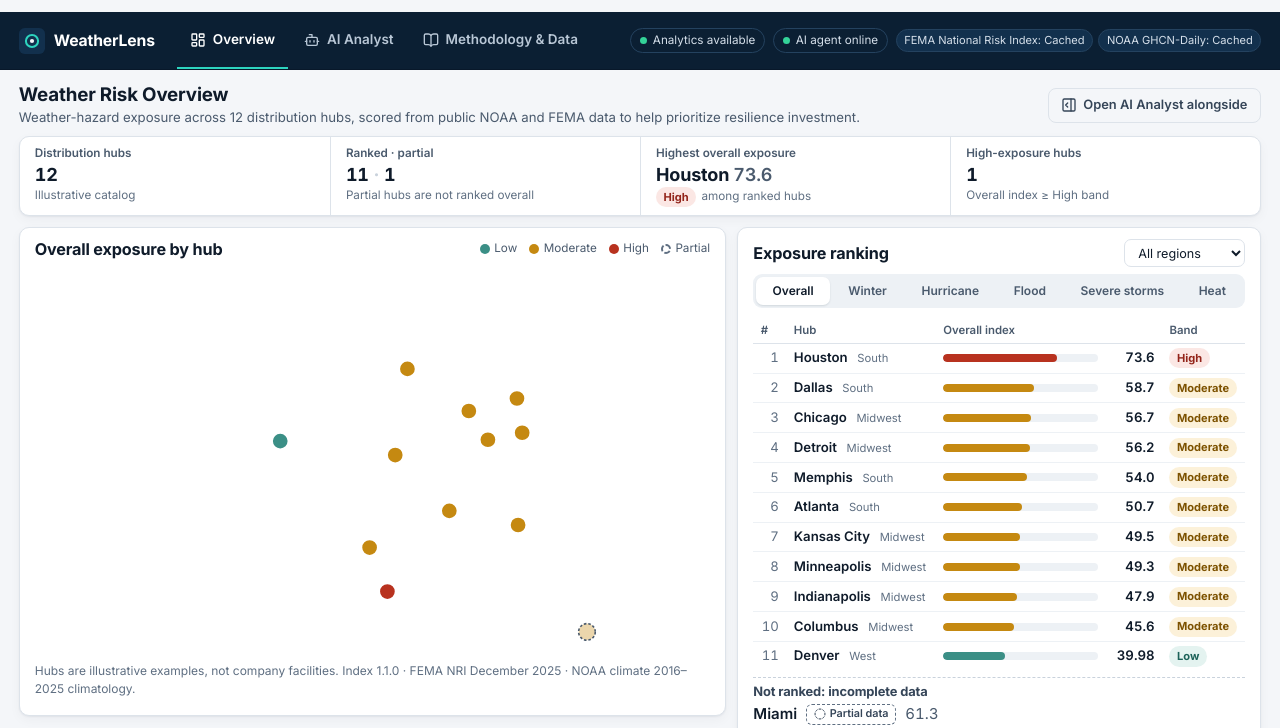
Test case: AI Analyst › handles network errors
Click the button "AI Analyst".
click(349, 40)  # box x1=292 y1=12 x2=406 y2=69
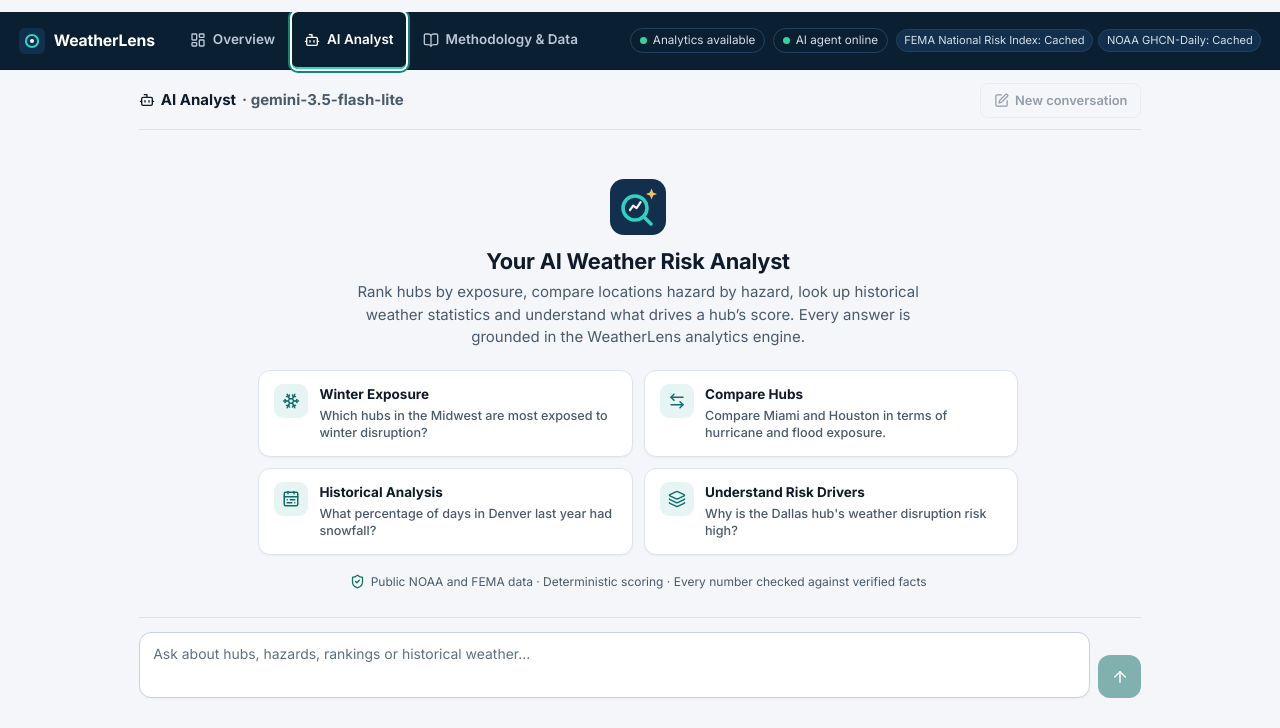
Click the button that starts with "Historical Analysis".
click(445, 511)  # box x1=258 y1=468 x2=632 y2=555
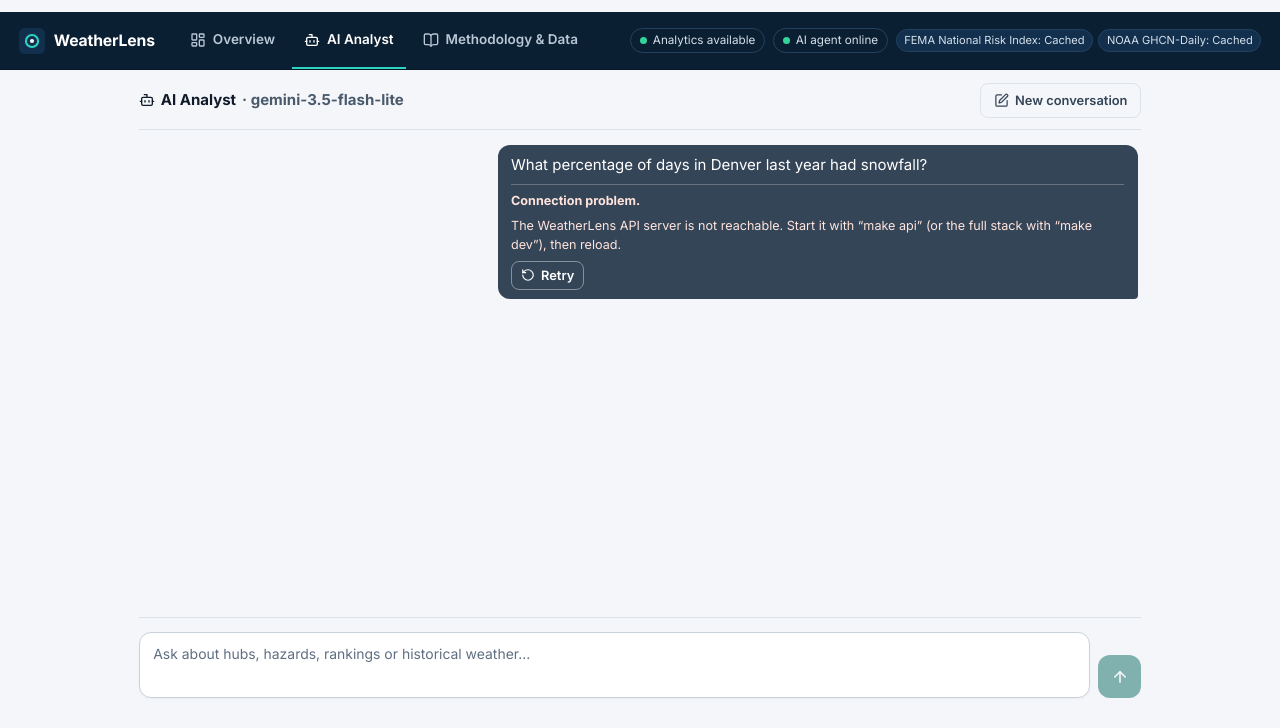
Check: the message shows "Connection problem", box x1=511 y1=193 x2=636 y2=208
